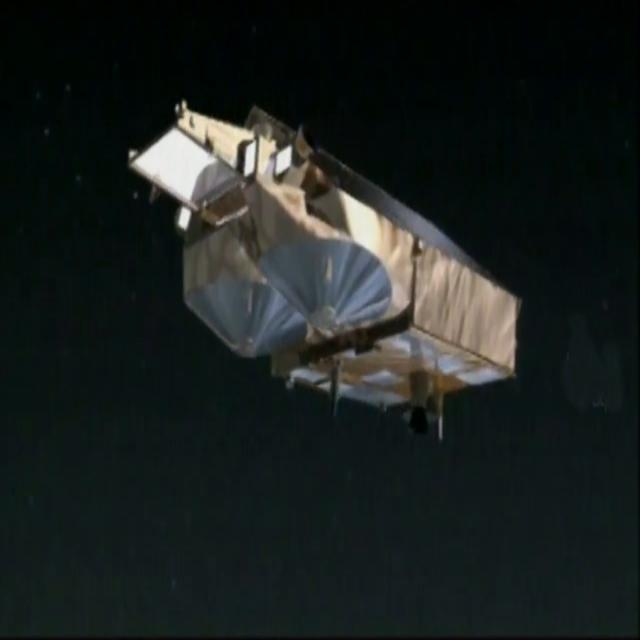medium_debris: (118, 37, 537, 489)
